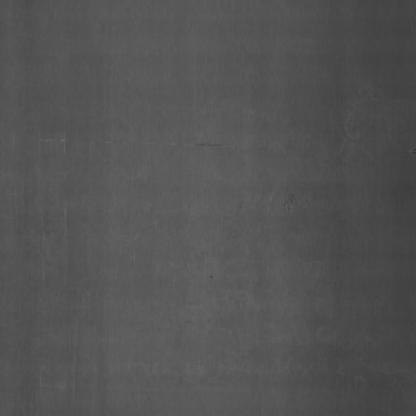silk_spot: (282, 69, 382, 246)
